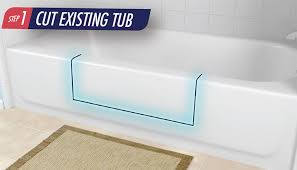bathub: (8, 26, 297, 169)
